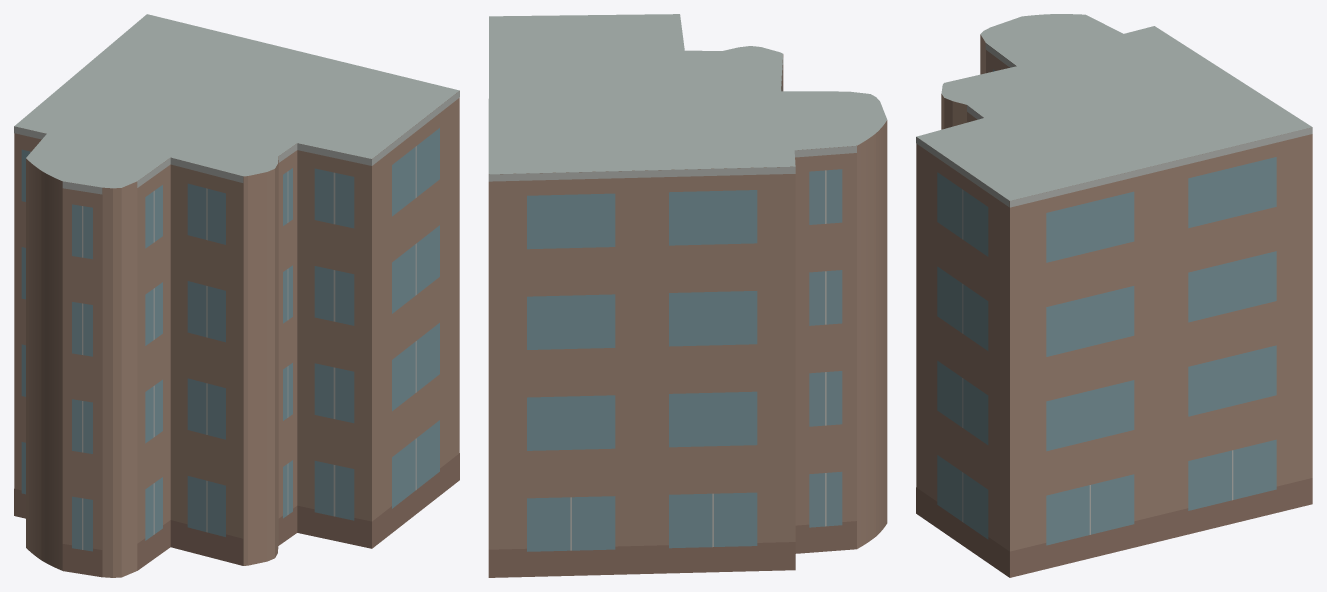
The model's file is survey-upis-32927567.glb.
The picture shows the model from 3 angles, left to right: view 1: azimuth 30°, elevation 25°; view 2: azimuth 150°, elevation 25°; view 3: azimuth 270°, elevation 25°; orthographic projection. The views are drawn at different scales.
Visible parts, largest first — view 1: survey-upis-32927567.tmp; view 2: survey-upis-32927567.tmp; view 3: survey-upis-32927567.tmp.
Part boxes in pixels (x1=…): survey-upis-32927567.tmp: x1=14, y1=14, x2=459, y2=577; survey-upis-32927567.tmp: x1=488, y1=14, x2=887, y2=577; survey-upis-32927567.tmp: x1=916, y1=14, x2=1312, y2=577.
Size of the model in its own units: 14.58 by 13.7 by 13.07.
